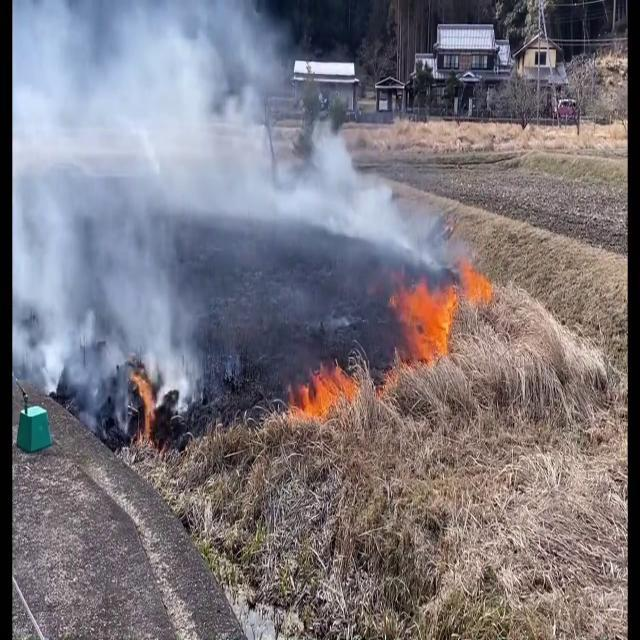Fire: (389, 256, 494, 370), (287, 354, 373, 427), (126, 368, 160, 454)
Smoke: (14, 0, 450, 293), (12, 1, 270, 410)
